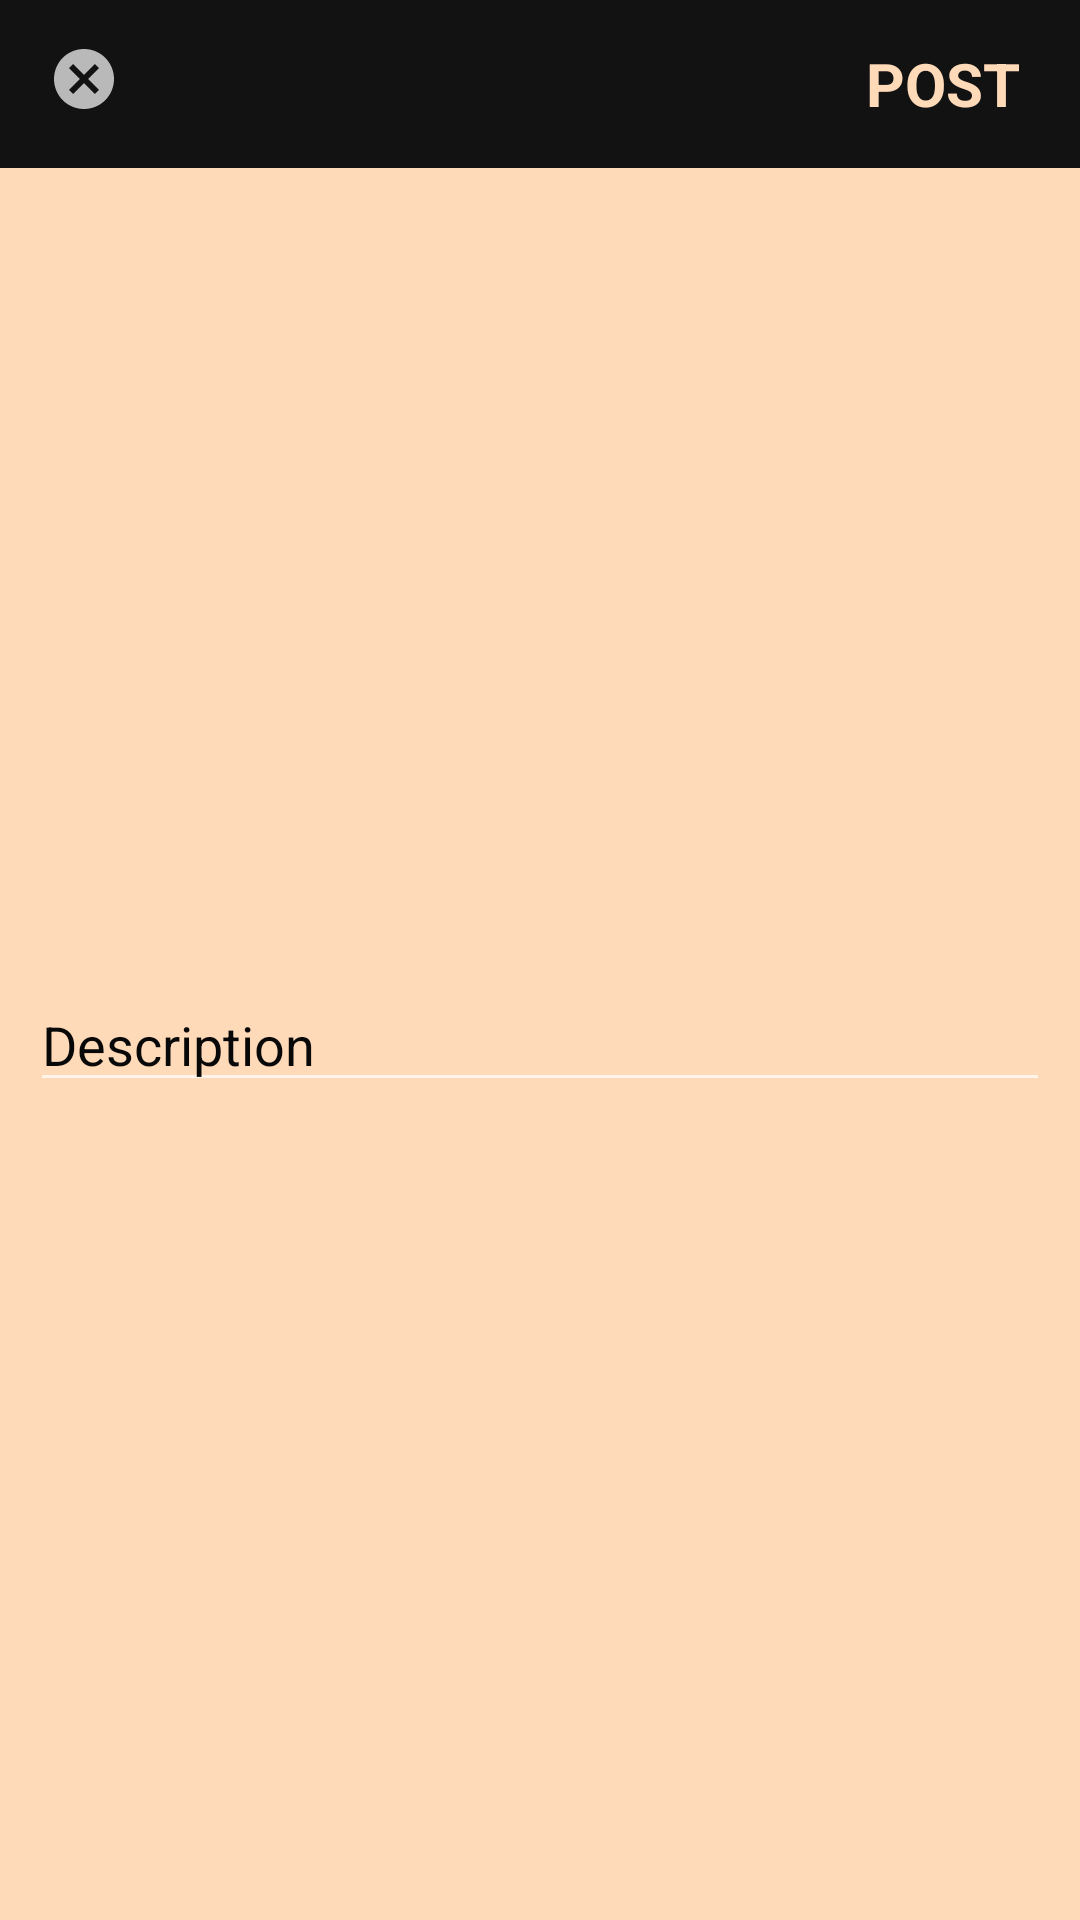

Screen size 1080x1920. Icon name, then its box in pixels as (x1, y1, x2, y2):
cancel: (54, 49, 114, 109)
